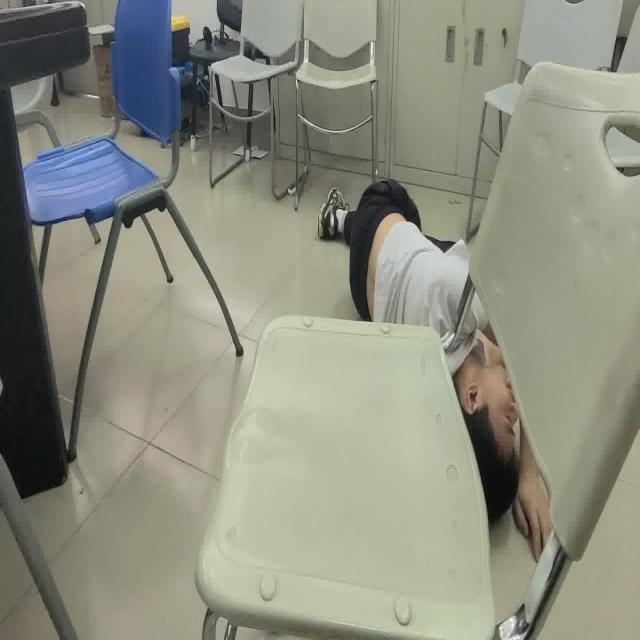Fall-Detected: (320, 169, 559, 556)
